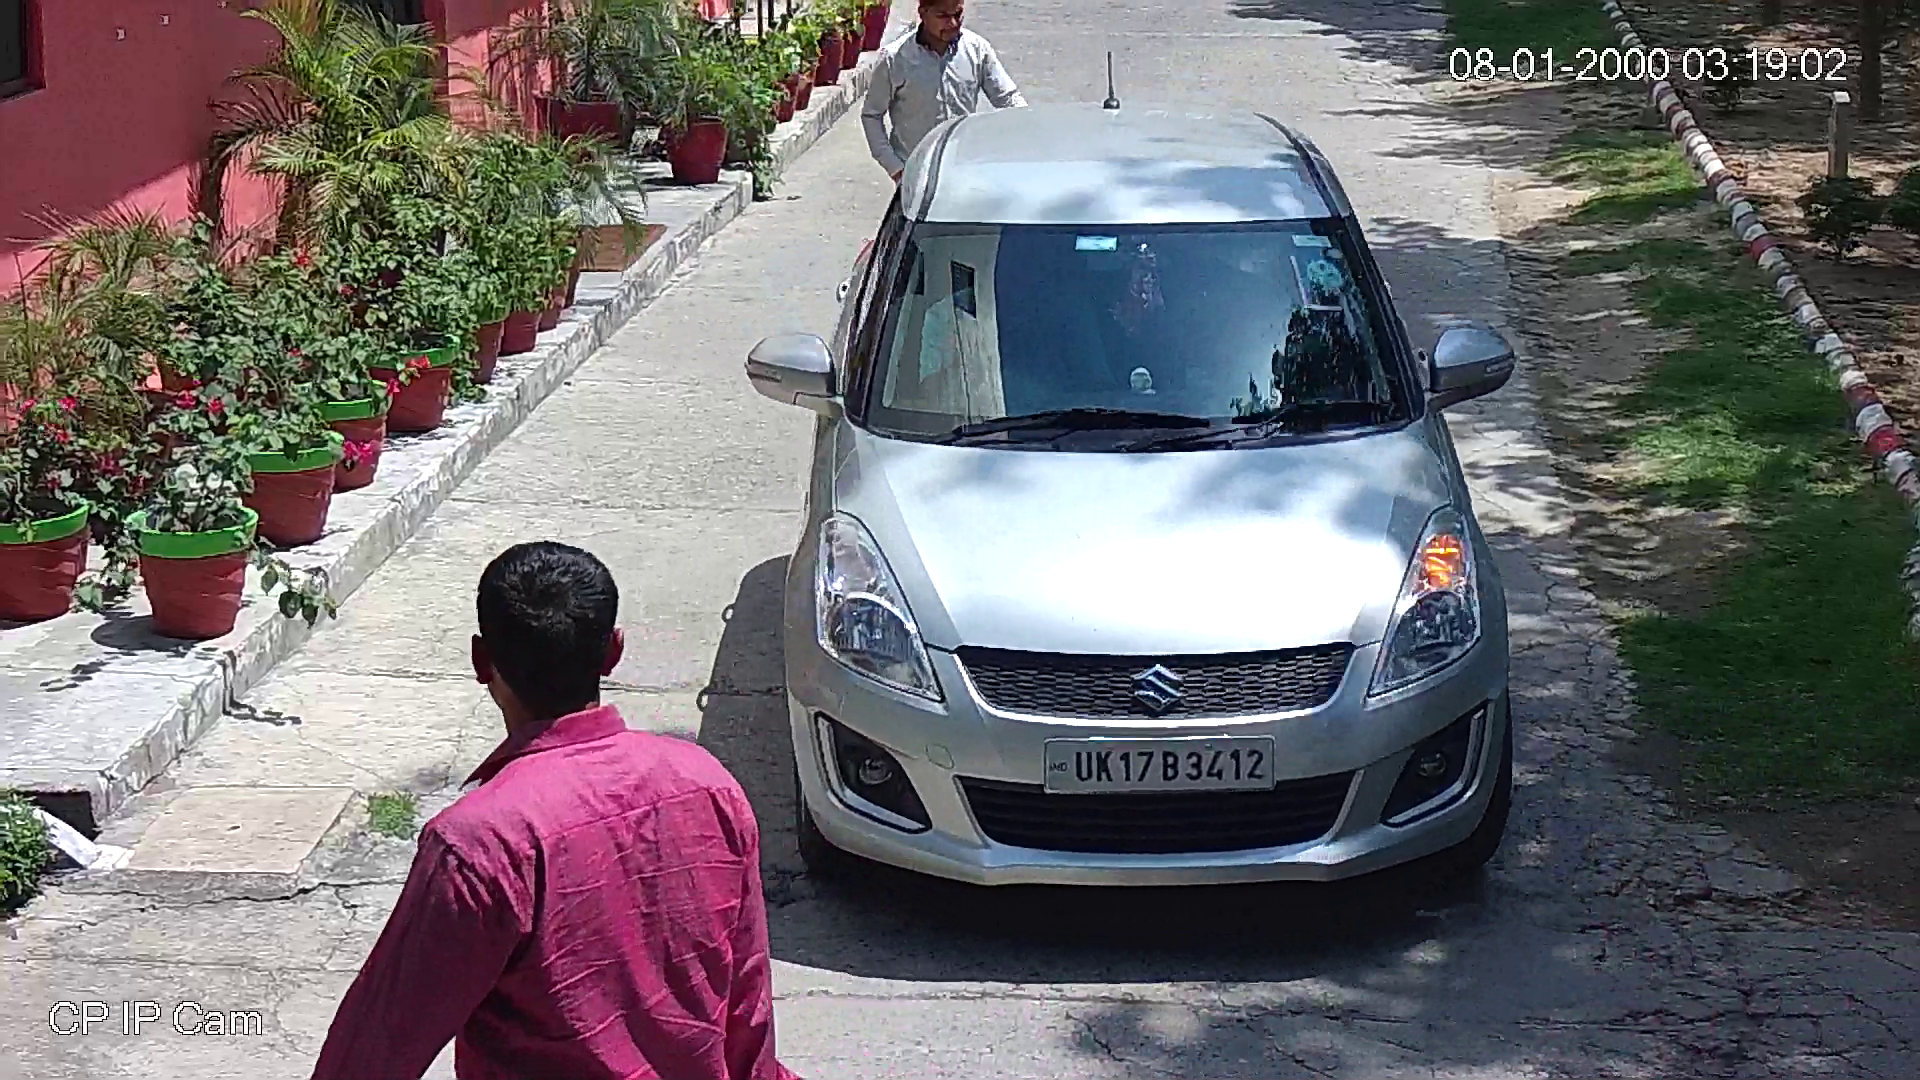plate: (1030, 729, 1286, 809)
